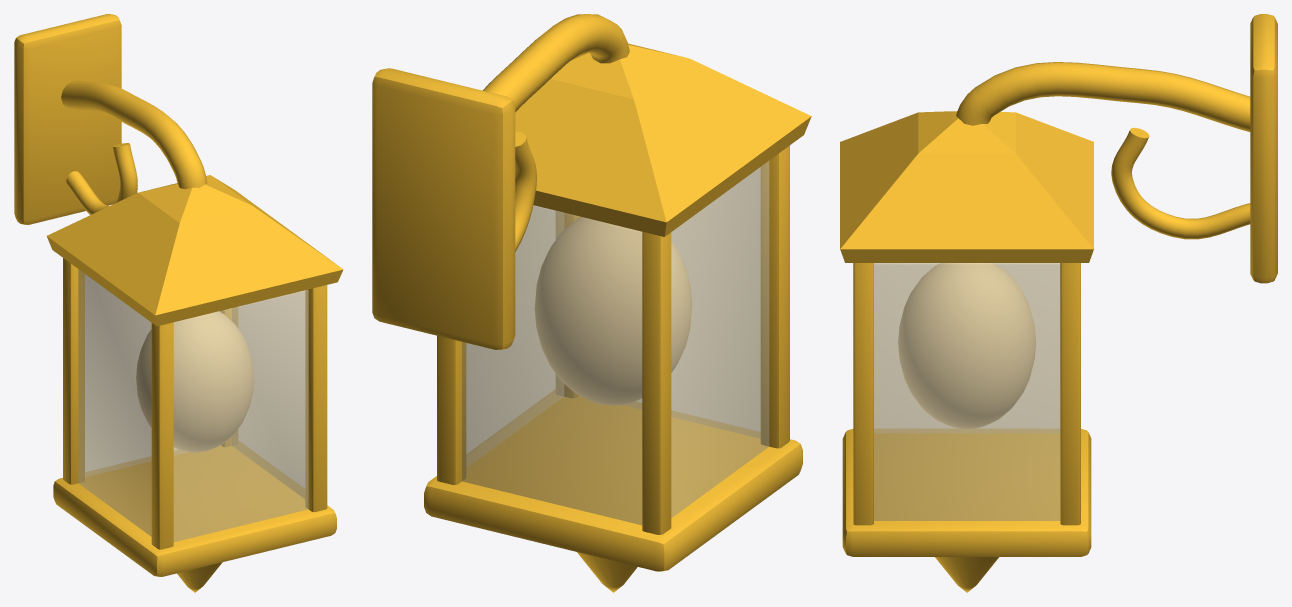
File: PropLantern.fbx
3 views of the same model, side by side, from view 1: azimuth 30°, elevation 25°; view 2: azimuth 150°, elevation 25°; view 3: azimuth 270°, elevation 25° (orthographic). The views are drawn at different scales.
Visible parts, largest first — view 1: Gold, Glass, Glow; view 2: Gold, Glass, Glow; view 3: Gold, Glass, Glow.
Boxes of the visible parts, x1,y1,x2,y2 form: Gold: (14, 14, 343, 592); Glass: (78, 269, 308, 541); Glow: (136, 311, 253, 452); Gold: (372, 14, 811, 592); Glass: (462, 161, 769, 525); Glow: (534, 217, 692, 405); Gold: (840, 14, 1277, 592); Glass: (874, 263, 1060, 520); Glow: (898, 263, 1035, 428).
Size of the model in its own units: 73.54 by 177 by 127.
